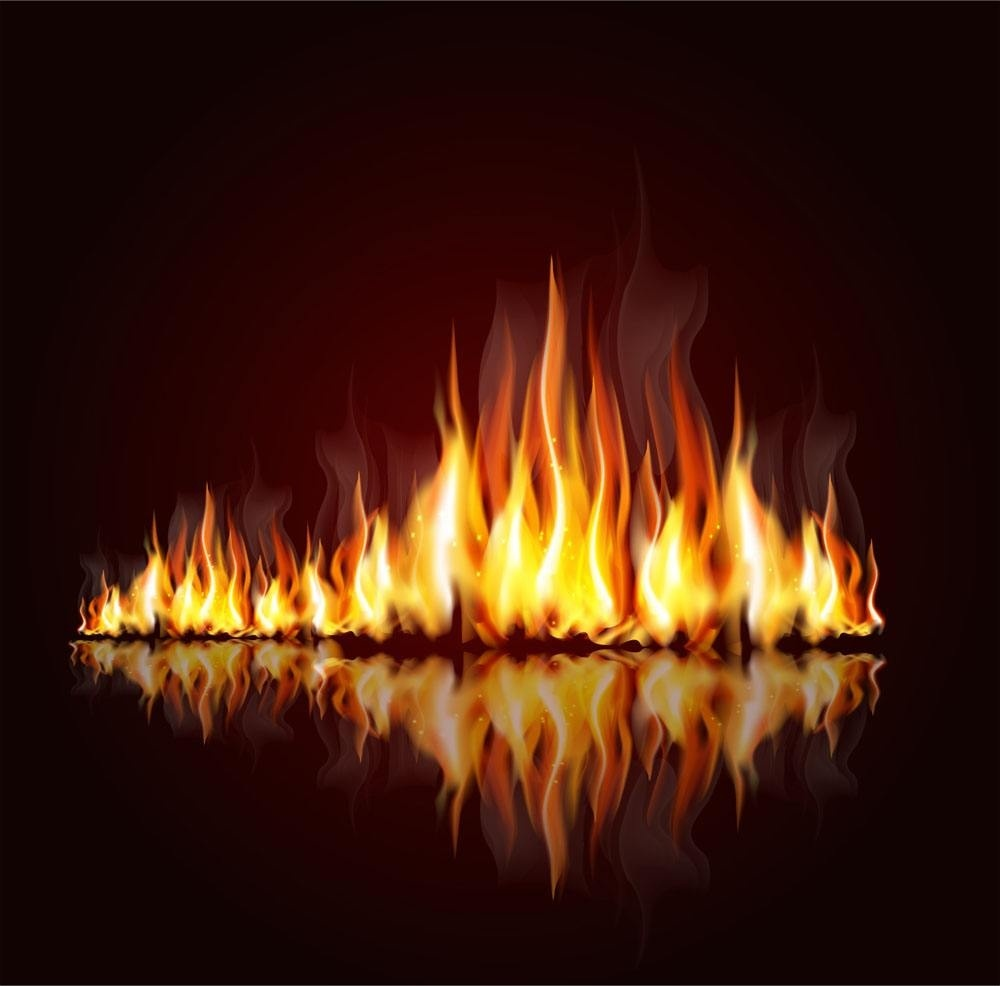fire: (79, 261, 882, 635), (74, 644, 886, 900)
